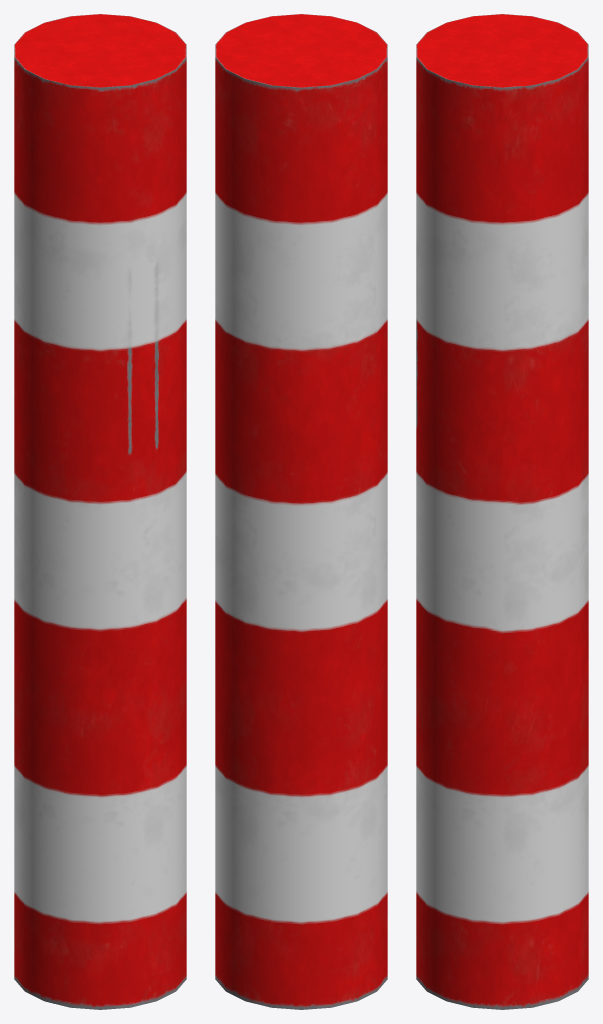
File: tope2.glb
3 views of the same model, side by side, from view 1: azimuth 30°, elevation 25°; view 2: azimuth 150°, elevation 25°; view 3: azimuth 270°, elevation 25° (orthographic).
Parts seen in each view (by area): view 1: bollard_lp; view 2: bollard_lp; view 3: bollard_lp.
Boxes of the visible parts, x1,y1,x2,y2 form: bollard_lp: [14, 14, 186, 1009]; bollard_lp: [215, 14, 387, 1009]; bollard_lp: [416, 14, 588, 1009].
Size of the model in its own units: 0.1242 by 0.7233 by 0.1223.
Materials: 1 (1 with a texture image).
